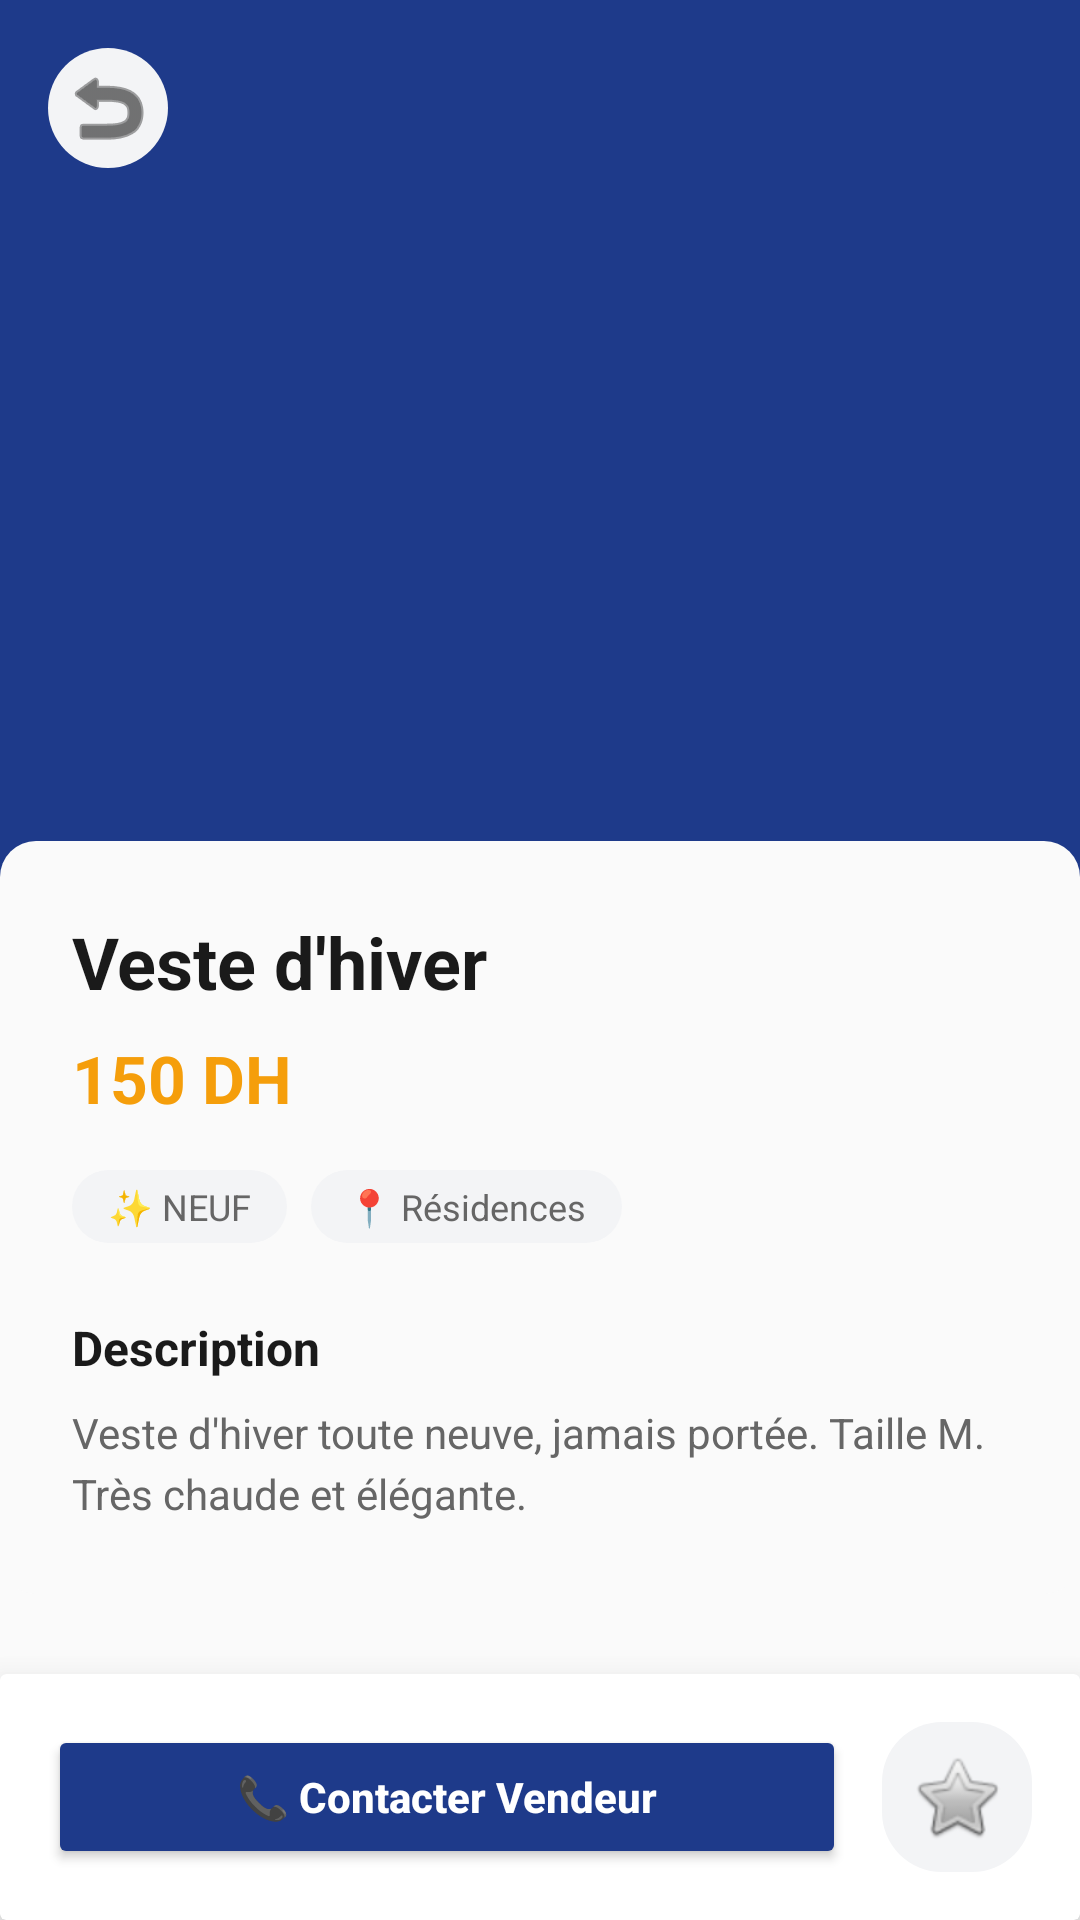

Screen size 1080*1920. Icon name, then its box in pixels as bbox=[x1, y1, x2, y2]:
revert: bbox=[48, 48, 168, 168]
star off: bbox=[917, 1758, 998, 1838]
